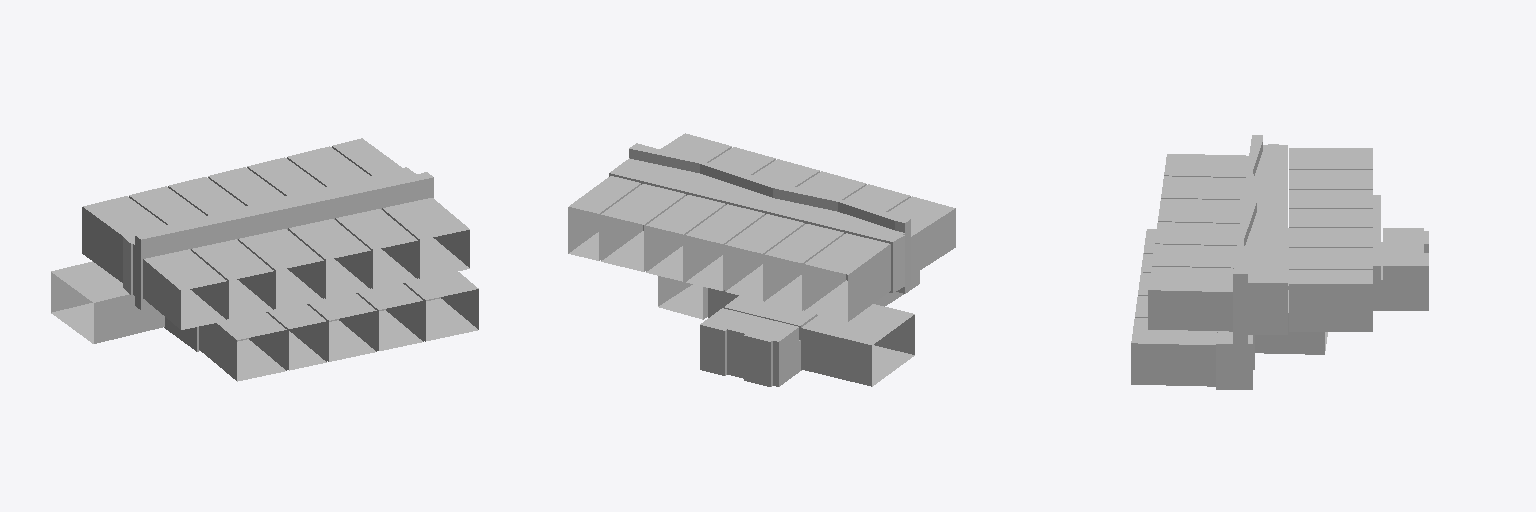
File: skylight_lightwell_v2_LS_sak_3126.obj
3 renders of one model, left to right at view 1: azimuth 30°, elevation 25°; view 2: azimuth 150°, elevation 25°; view 3: azimuth 270°, elevation 25°, orthographic.
Size of the model in its own units: 988 by 354 by 823.